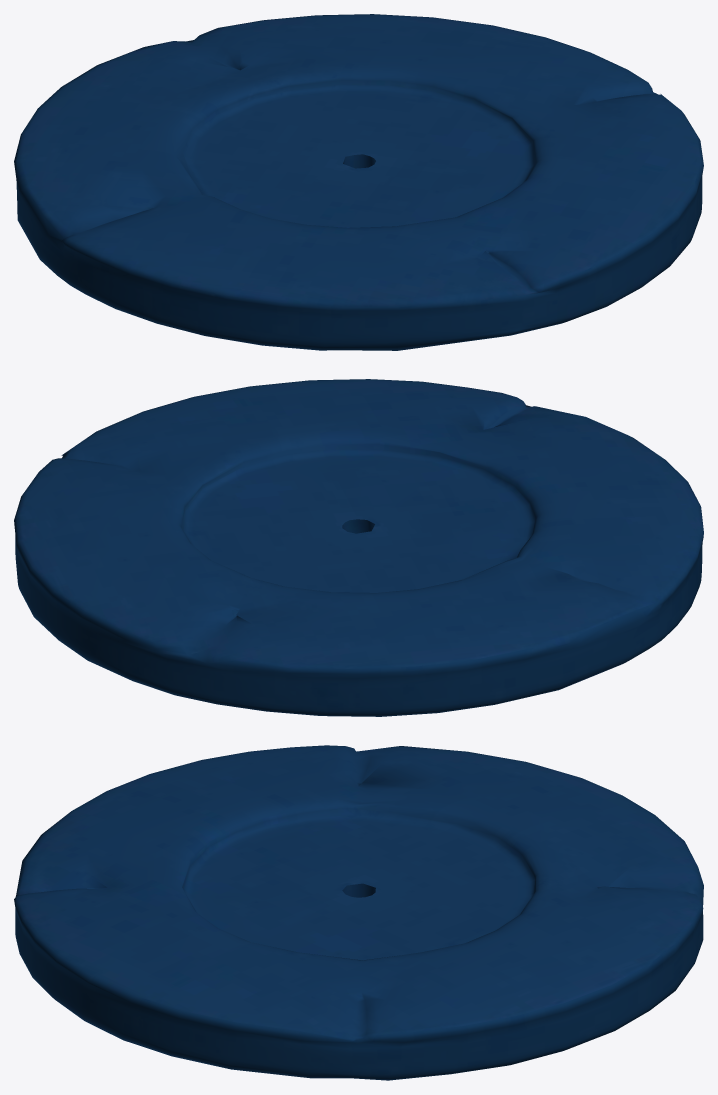
The model's file is DiceDisk.min.glb.
3 views of the same model, one above another, from view 1: azimuth 30°, elevation 25°; view 2: azimuth 150°, elevation 25°; view 3: azimuth 270°, elevation 25° (orthographic).
Parts seen in each view (by area): view 1: Mesh_0; view 2: Mesh_0; view 3: Mesh_0.
Boxes of the visible parts, <box> form: Mesh_0: <box>14,14,703,350</box>; Mesh_0: <box>14,379,703,716</box>; Mesh_0: <box>14,745,703,1080</box>.
Bounding box in the file's own units: 1.9 × 0.1852 × 1.89.
1 material, 1 textured.
